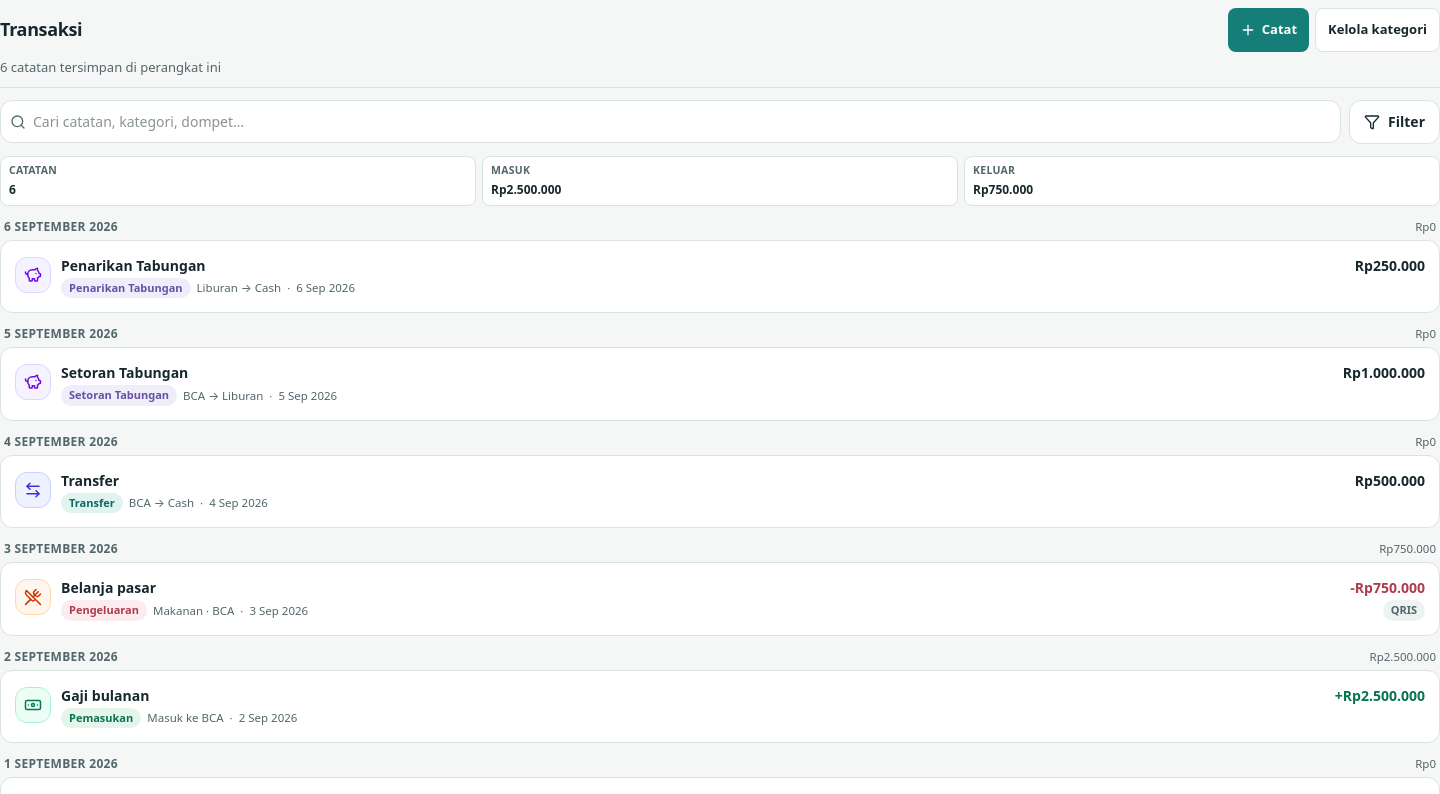
Test case: Transactions Phase 2C UX › supports search, no-results, and reset on the transaction list
Expected: the text "Belanja pasar" is shown, top-left (61, 577), bottom-right (156, 598)
Type "nomatch" into the search field named "Cari transaksi" at (671, 121), box top-left (0, 100), bottom-right (1341, 143)
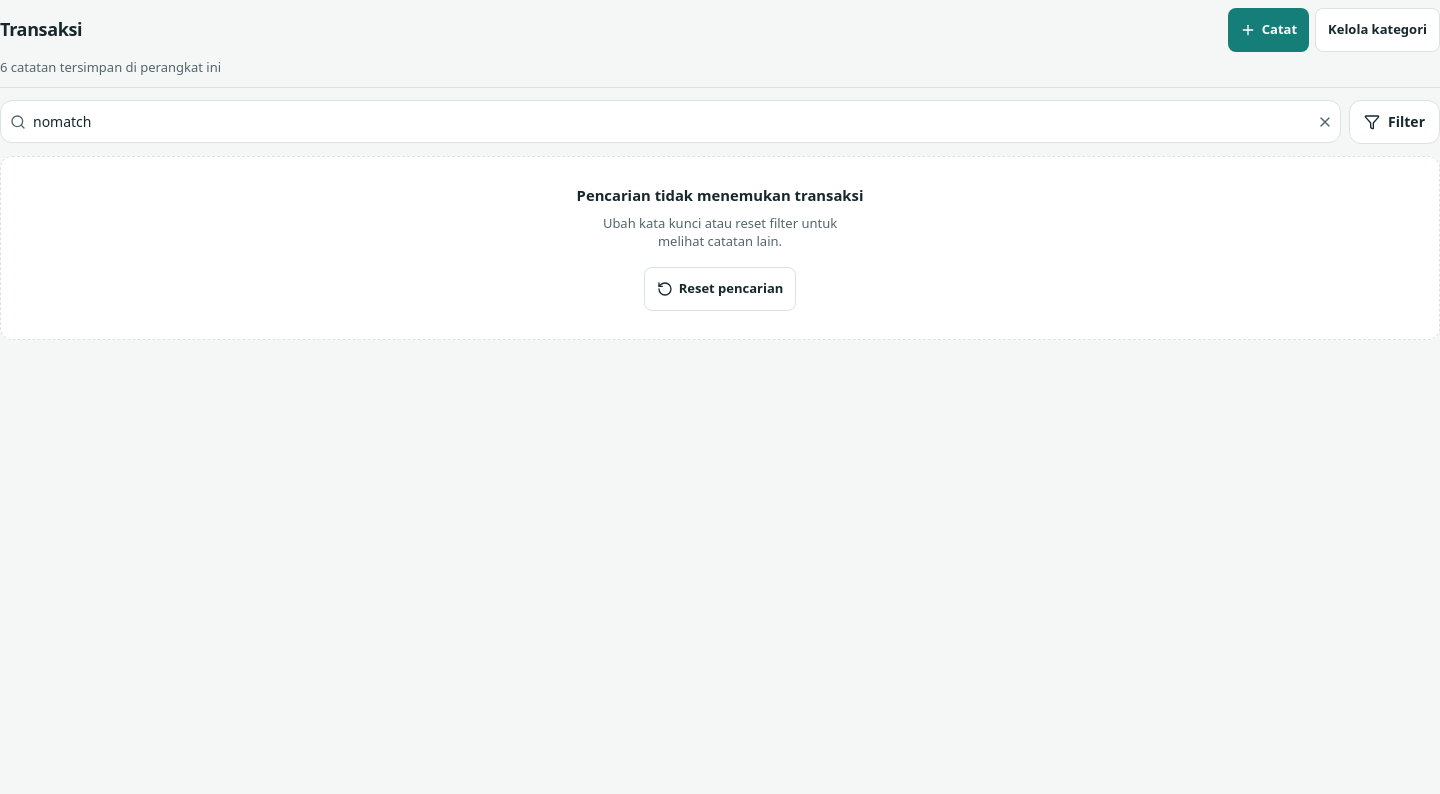
Expected: the text "Pencarian tidak menemukan transaksi" is shown, top-left (577, 185), bottom-right (863, 206)
Click the button "Reset pencarian" at (720, 289), box top-left (644, 267), bottom-right (796, 311)
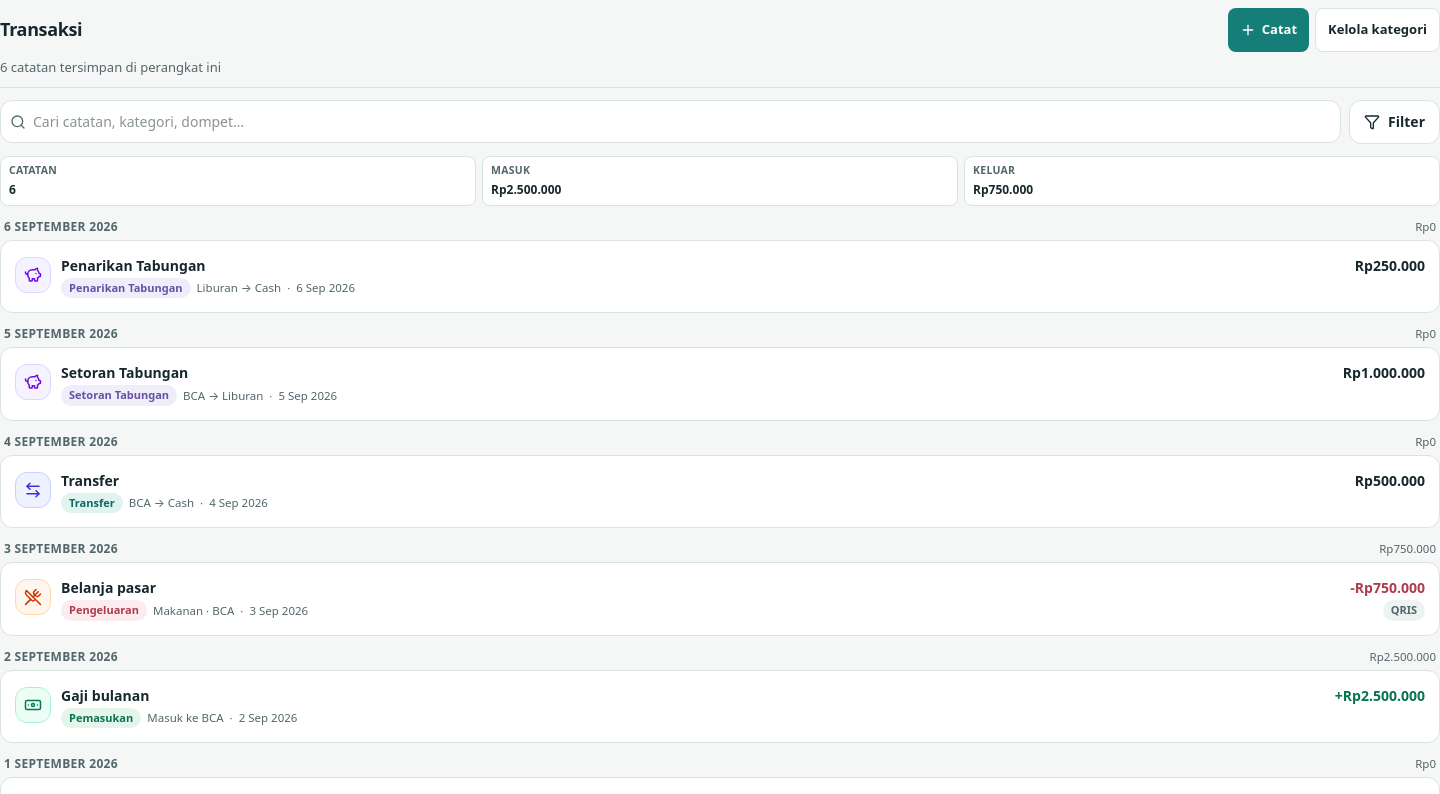
Expected: the text "Belanja pasar" is shown, top-left (61, 577), bottom-right (156, 598)
Expected: the search field named "Cari transaksi" is empty, top-left (0, 100), bottom-right (1341, 143)
